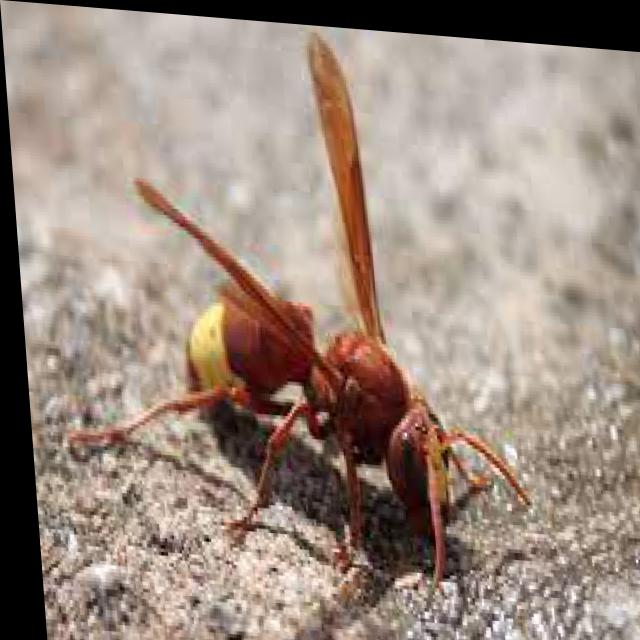Vespa Orientalis: (24, 8, 541, 607)
